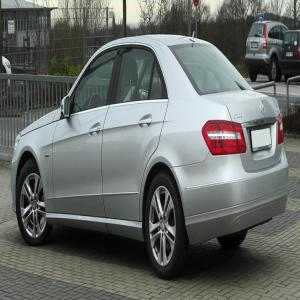Vehicle-registration-plate: (252, 127, 274, 152)
